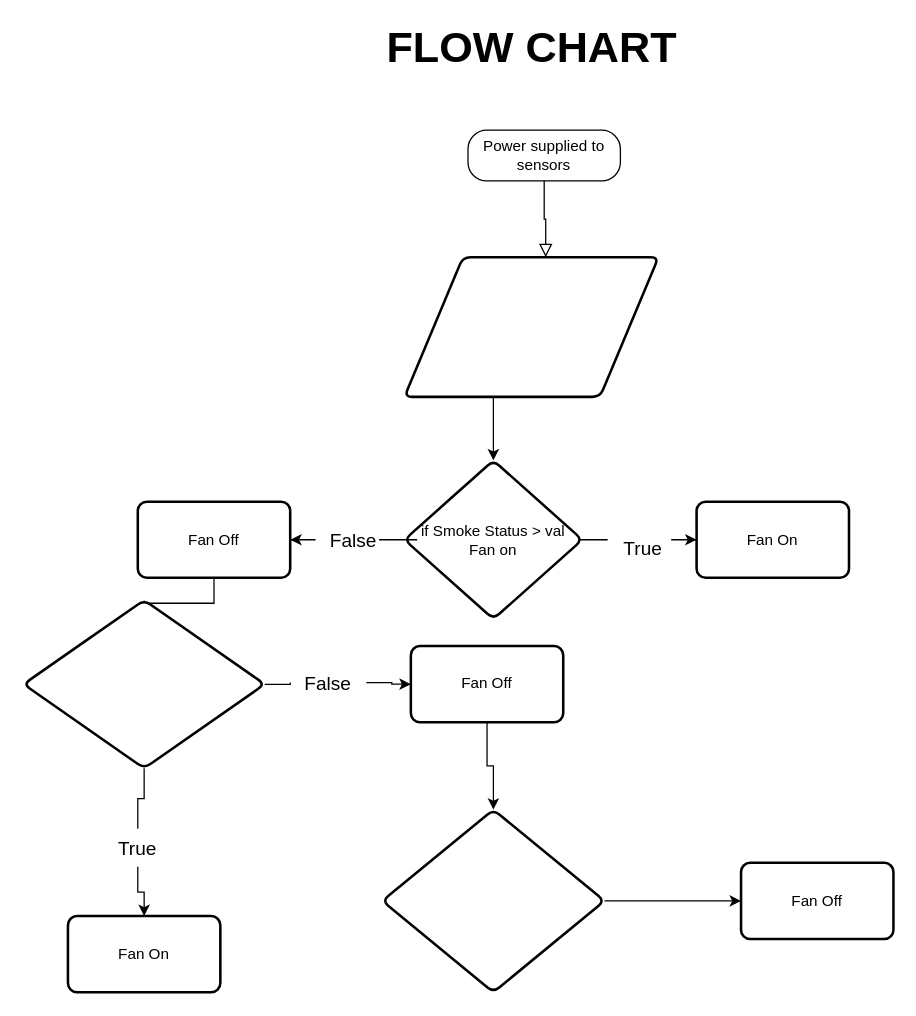
This 916x1016 diagram has some shape labels left out. Each missing label, with the centre of its shape:
"elif Firebase Fan Status == on" goes at point 143,683.
"elif Firebase Fan Status == override" goes at point 492,900.
"Input Sensor Data Co2 Temp Humidity Smoke Methane" goes at point 531,326.
